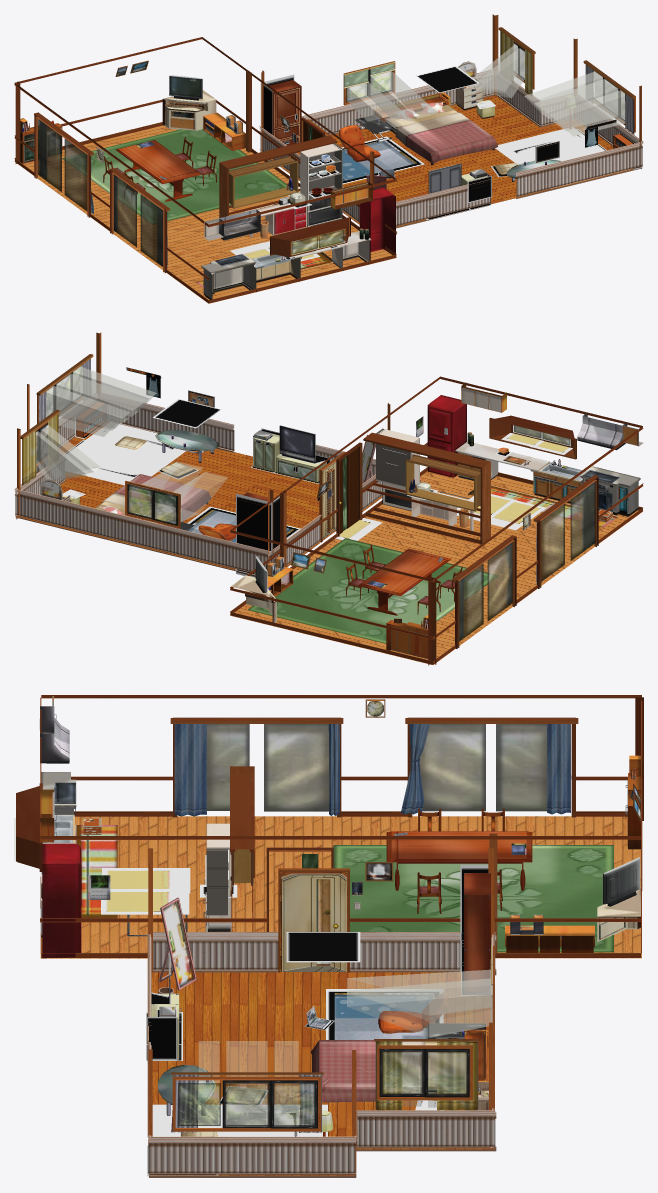
The model's file is house_interior3.glb.
3 views of the same model, one above another, from view 1: azimuth 30°, elevation 25°; view 2: azimuth 150°, elevation 25°; view 3: azimuth 270°, elevation 25° (orthographic). The views are drawn at different scales.
Visible parts, largest first — view 1: Object_62, Object_8, Object_74, Object_6, Object_84, Object_13, Object_61, Object_27, Object_41, Object_67, Object_33, Object_37 (+28 smaller); view 2: Object_8, Object_62, Object_74, Object_6, Object_13, Object_27, Object_41, Object_61, Object_84, Object_96, Object_67, Object_55 (+26 smaller); view 3: Object_62, Object_8, Object_13, Object_61, Object_6, Object_74, Object_84, Object_41, Object_88, Object_27, Object_28, Object_70 (+24 smaller).
Boxes of the visible parts, x1,y1,x2,y2 form: Object_62: (259, 70, 643, 228); Object_8: (14, 125, 396, 303); Object_74: (347, 44, 625, 136); Object_6: (62, 129, 286, 223); Object_84: (342, 31, 634, 181); Object_13: (271, 95, 633, 227); Object_61: (38, 119, 344, 266); Object_27: (15, 70, 350, 272); Object_41: (14, 37, 397, 303); Object_67: (259, 66, 642, 220); Object_33: (300, 143, 342, 226); Object_37: (115, 140, 201, 201); Object_8: (230, 471, 642, 664); Object_62: (14, 393, 382, 575); Object_74: (36, 366, 227, 522); Object_6: (248, 538, 497, 643); Object_13: (16, 423, 382, 569); Object_27: (280, 415, 598, 665); Object_41: (230, 376, 643, 664); Object_61: (459, 425, 595, 641); Object_84: (22, 359, 293, 542); Object_96: (62, 422, 185, 498); Object_67: (65, 367, 331, 577); Object_55: (335, 433, 572, 540); Object_62: (147, 932, 496, 1177); Object_8: (40, 816, 641, 958); Object_13: (149, 972, 494, 1175); Object_61: (207, 724, 546, 811); Object_6: (333, 845, 613, 952); Object_74: (199, 969, 492, 1126); Object_84: (171, 993, 478, 1132); Object_41: (40, 695, 642, 957); Object_88: (178, 879, 467, 1125); Object_27: (16, 697, 643, 952); Object_28: (174, 724, 571, 816); Object_70: (148, 848, 494, 1172).
Size of what is drawn, in the model's own units: 753 by 133 by 563.
76 materials, 75 textured.
